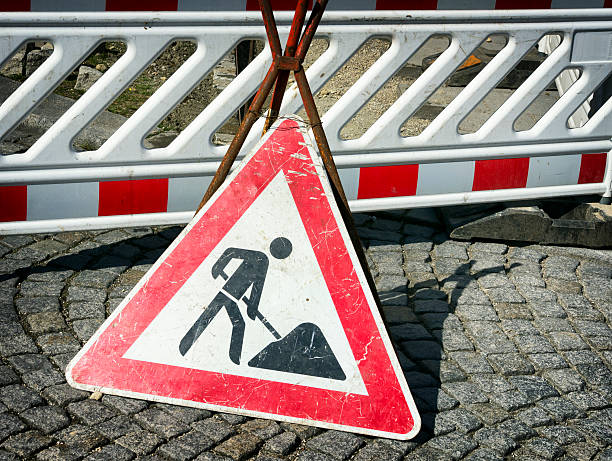yol_calismasi_levha: (62, 110, 419, 448)
